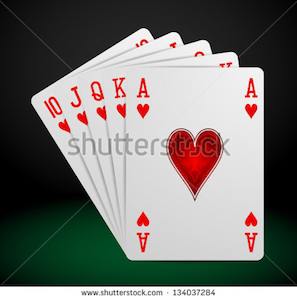10OfHearts: (22, 85, 77, 173)
AceOfHearts: (126, 66, 270, 264)
JackOfHearts: (62, 83, 93, 153)
KingOfHearts: (103, 65, 131, 177)
QueenOfHearts: (84, 76, 110, 145)
